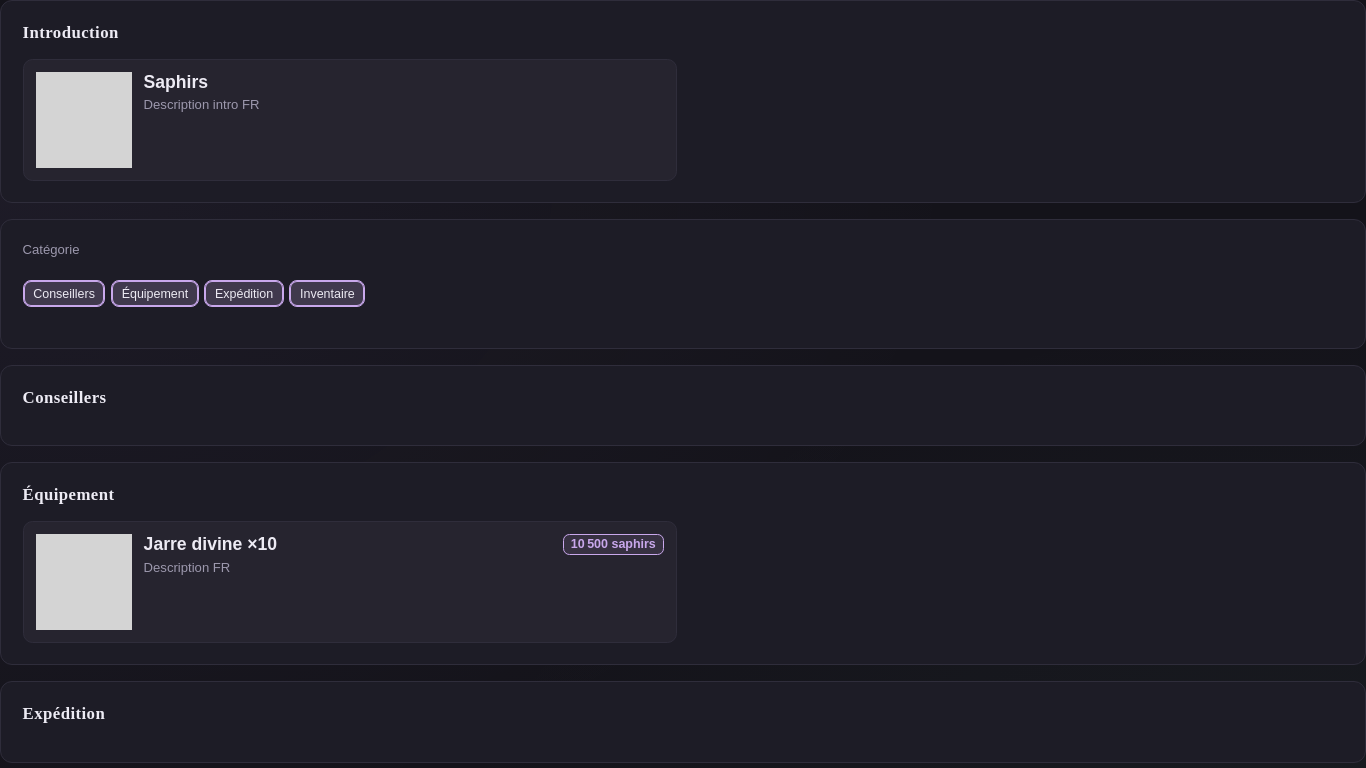
Test: ConsumablesReferenceTable › Bloc48/B: fully hides a category's table when its filter is deselected
Expected: the text "Jarre divine ×10" is shown, [144,534,277,555]
Click the button with test id "filter-category-equipment" at (155, 294), box [111,280,199,307]
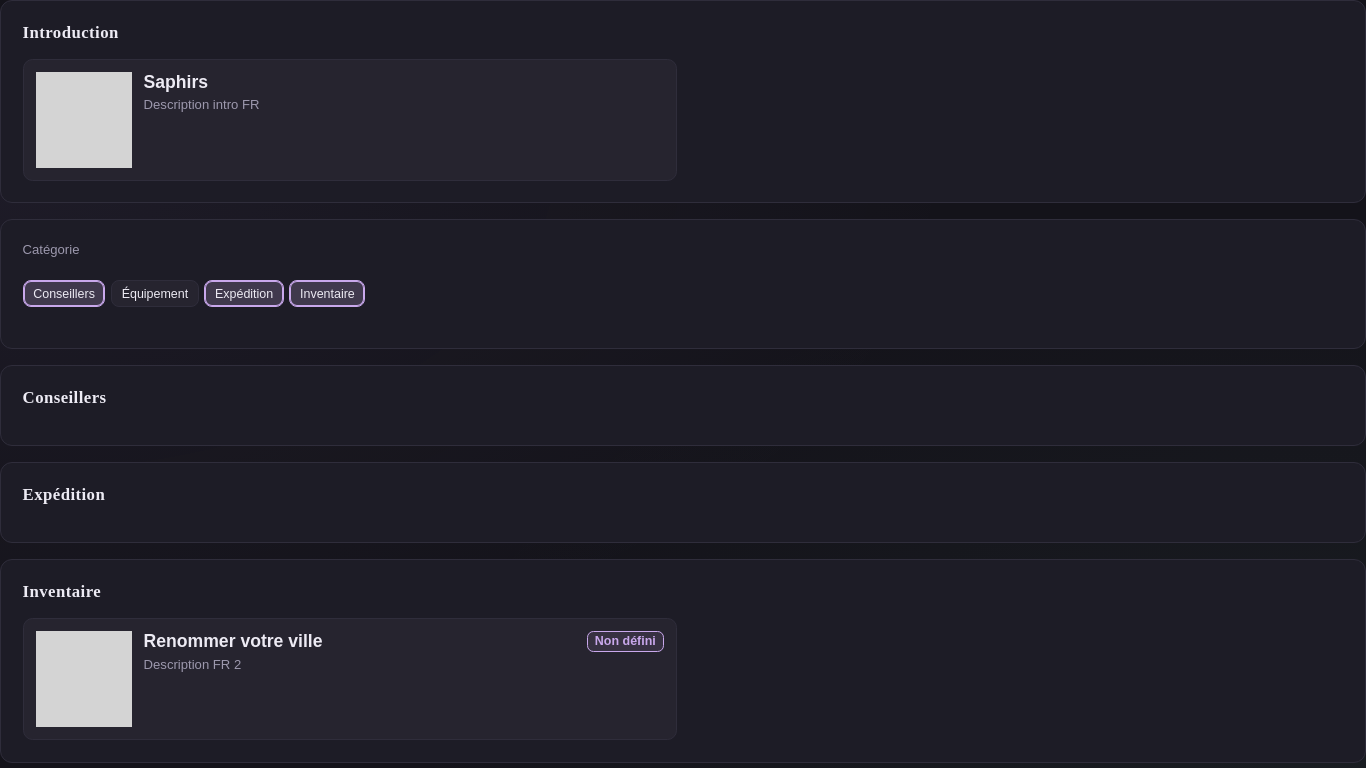
Expected: the text "Renommer votre ville" is shown, [144,631,322,652]
Expected: the text "Jarre divine ×10" is gone
